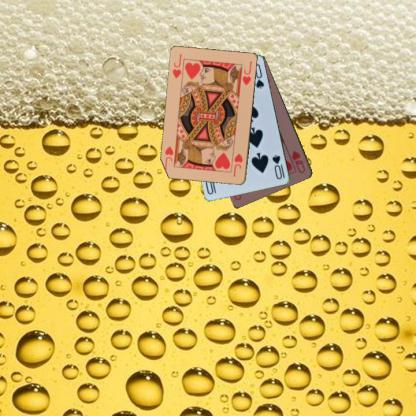10s: (270, 152, 286, 180)
Jh: (230, 151, 245, 178), (170, 52, 183, 80)
Qh: (289, 148, 307, 174)
